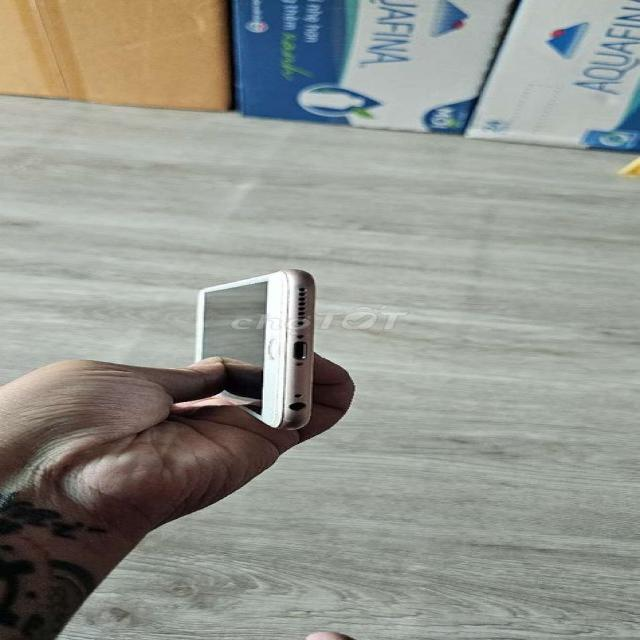gen_6: (196, 269, 318, 430)
scratch: (268, 408, 302, 427)
